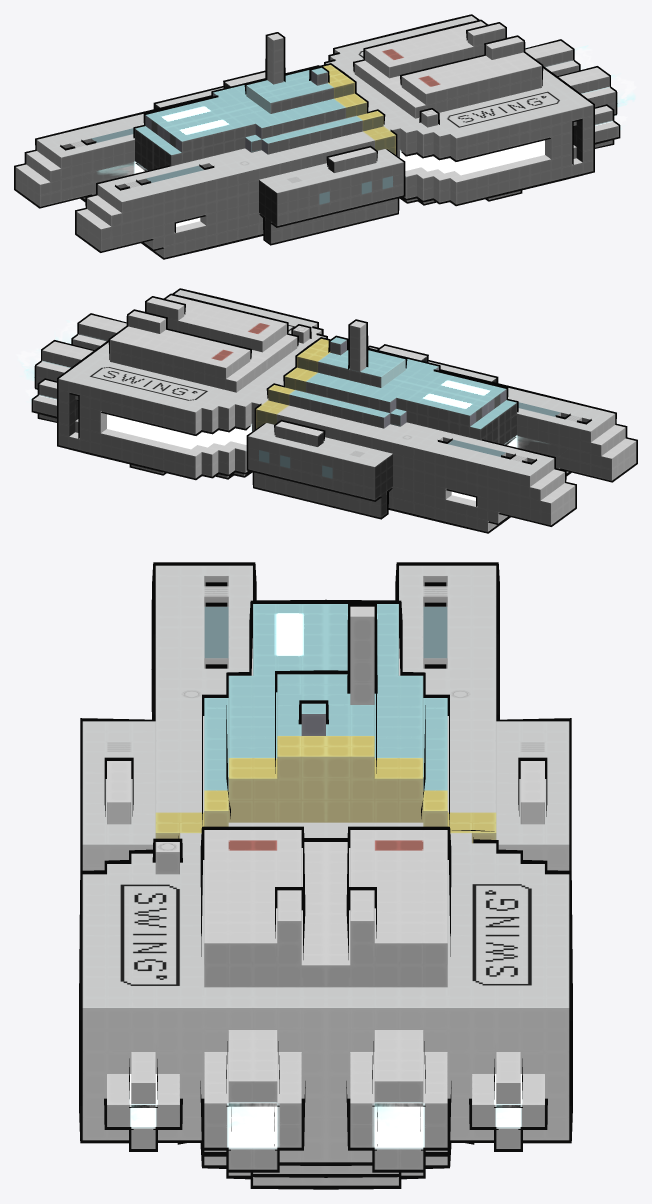
Rendered from spaceship_decal_ver.gltf.
The picture shows the model from 3 angles, top to bottom: view 1: azimuth 30°, elevation 25°; view 2: azimuth 150°, elevation 25°; view 3: azimuth 270°, elevation 25°; orthographic projection. The views are drawn at different scales.
Parts seen in each view (by area): view 1: spaceship_body_low, spaceship_outline, spaceship_exhaust_glow, Plane001; view 2: spaceship_body_low, spaceship_outline, spaceship_exhaust_glow, Plane001; view 3: spaceship_body_low, spaceship_outline, Plane001, spaceship_exhaust_glow.
Boxes of the visible parts, left/top/right/bottom form: spaceship_body_low: left=15, top=16, right=618, bottom=257; spaceship_outline: left=14, top=14, right=620, bottom=259; spaceship_exhaust_glow: left=98, top=45, right=636, bottom=175; Plane001: left=358, top=51, right=559, bottom=127; spaceship_body_low: left=33, top=290, right=636, bottom=531; spaceship_outline: left=31, top=288, right=637, bottom=533; spaceship_exhaust_glow: left=16, top=320, right=538, bottom=447; Plane001: left=90, top=325, right=294, bottom=400; spaceship_body_low: left=82, top=565, right=569, bottom=1185; spaceship_outline: left=79, top=562, right=572, bottom=1189; Plane001: left=120, top=884, right=531, bottom=985; spaceship_exhaust_glow: left=131, top=1103, right=520, bottom=1129.
Size of the model in its own units: 528 by 163 by 203.
4 materials, 4 textured.
